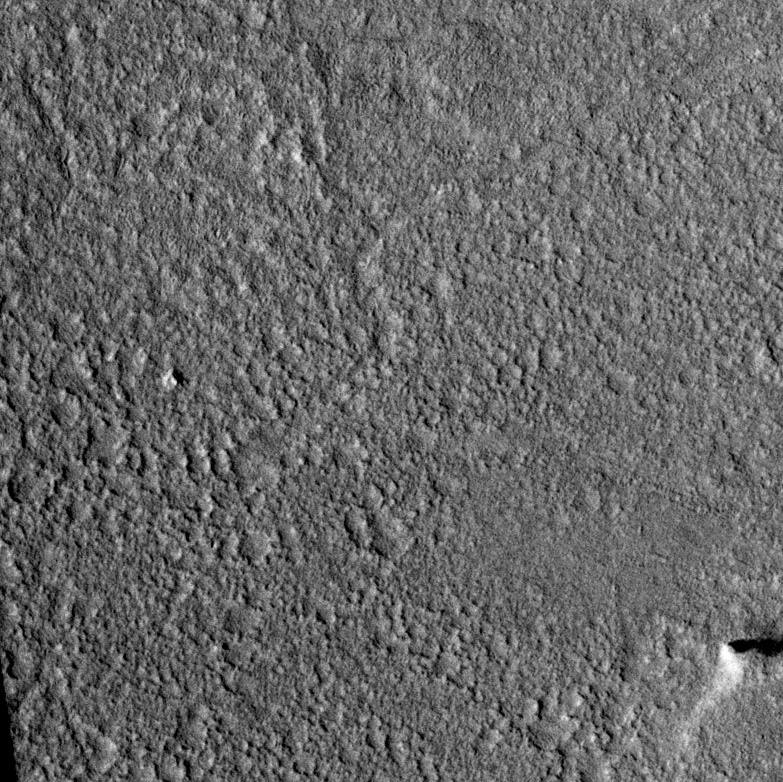dust_devil: (717, 636, 783, 687)
